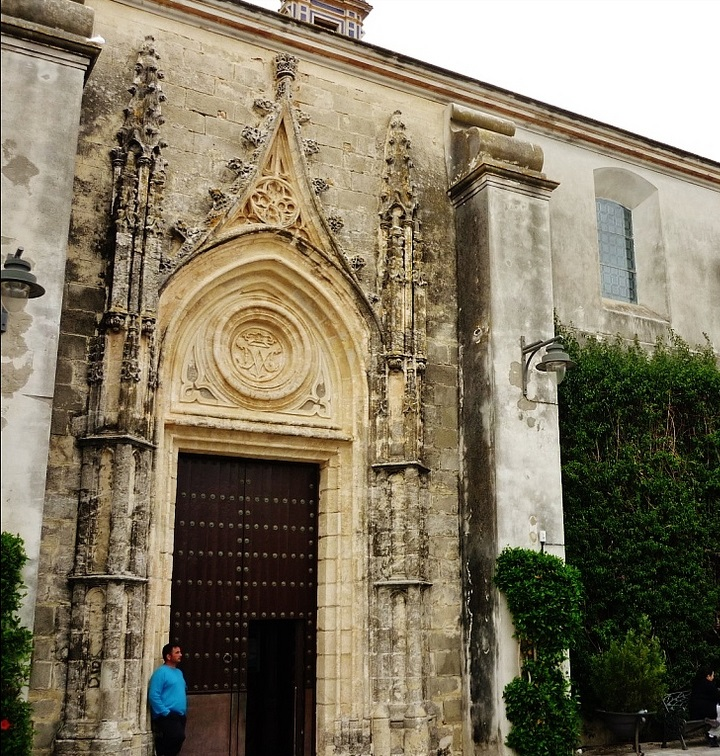arco-apuntado: (160, 244, 371, 435)
